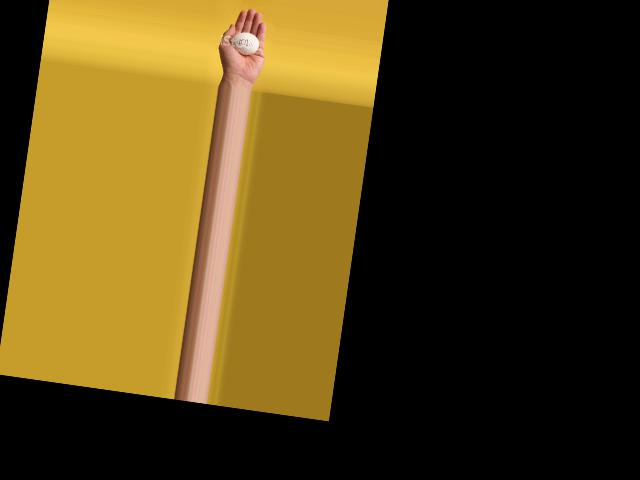egg: (229, 30, 260, 56)
